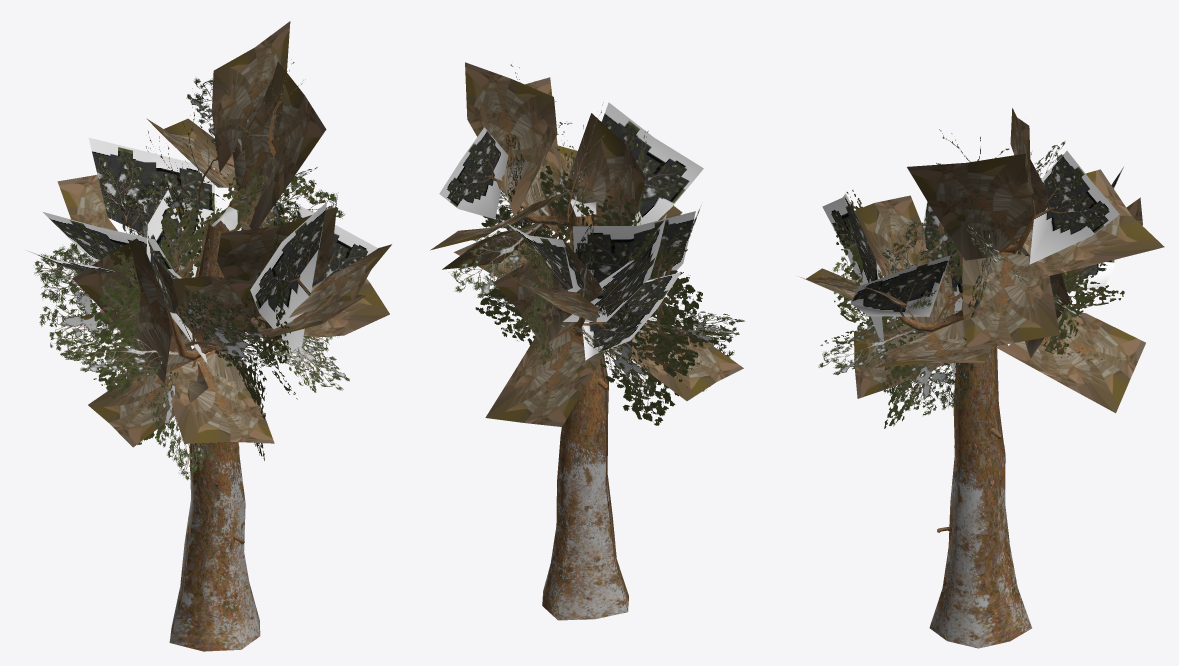
Rendered from Pine4.fbx.
The picture shows the model from 3 angles, left to right: view 1: azimuth 30°, elevation 25°; view 2: azimuth 150°, elevation 25°; view 3: azimuth 270°, elevation 25°; orthographic projection. The views are drawn at different scales.
Visible parts, largest first — view 1: LOD0, Billboard; view 2: LOD0, Billboard; view 3: LOD0, Billboard.
Boxes of the visible parts, x1=… form: LOD0: x1=25, y1=21, x2=391, y2=651; Billboard: x1=60, y1=59, x2=338, y2=641; LOD0: x1=430, y1=62, x2=744, y2=620; Billboard: x1=475, y1=64, x2=731, y2=610; LOD0: x1=800, y1=108, x2=1164, y2=648; Billboard: x1=820, y1=129, x2=1124, y2=458.
Size of what is drawn, in the model's own units: 193 by 340 by 207.
